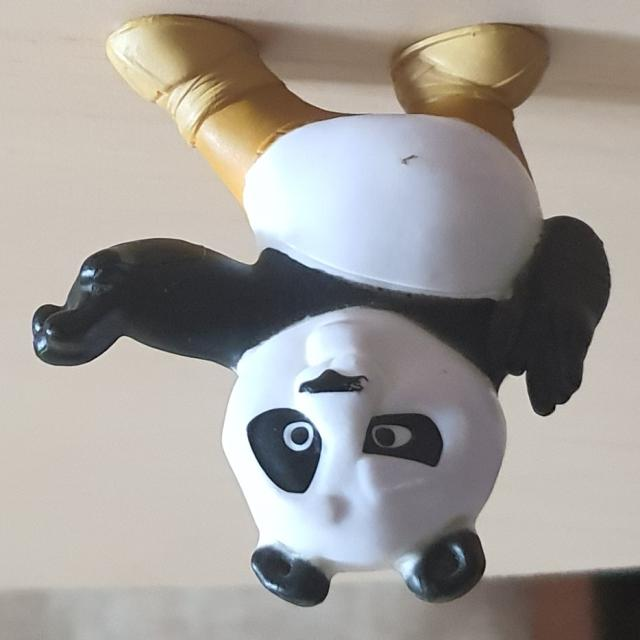Panda: (32, 16, 610, 607)
